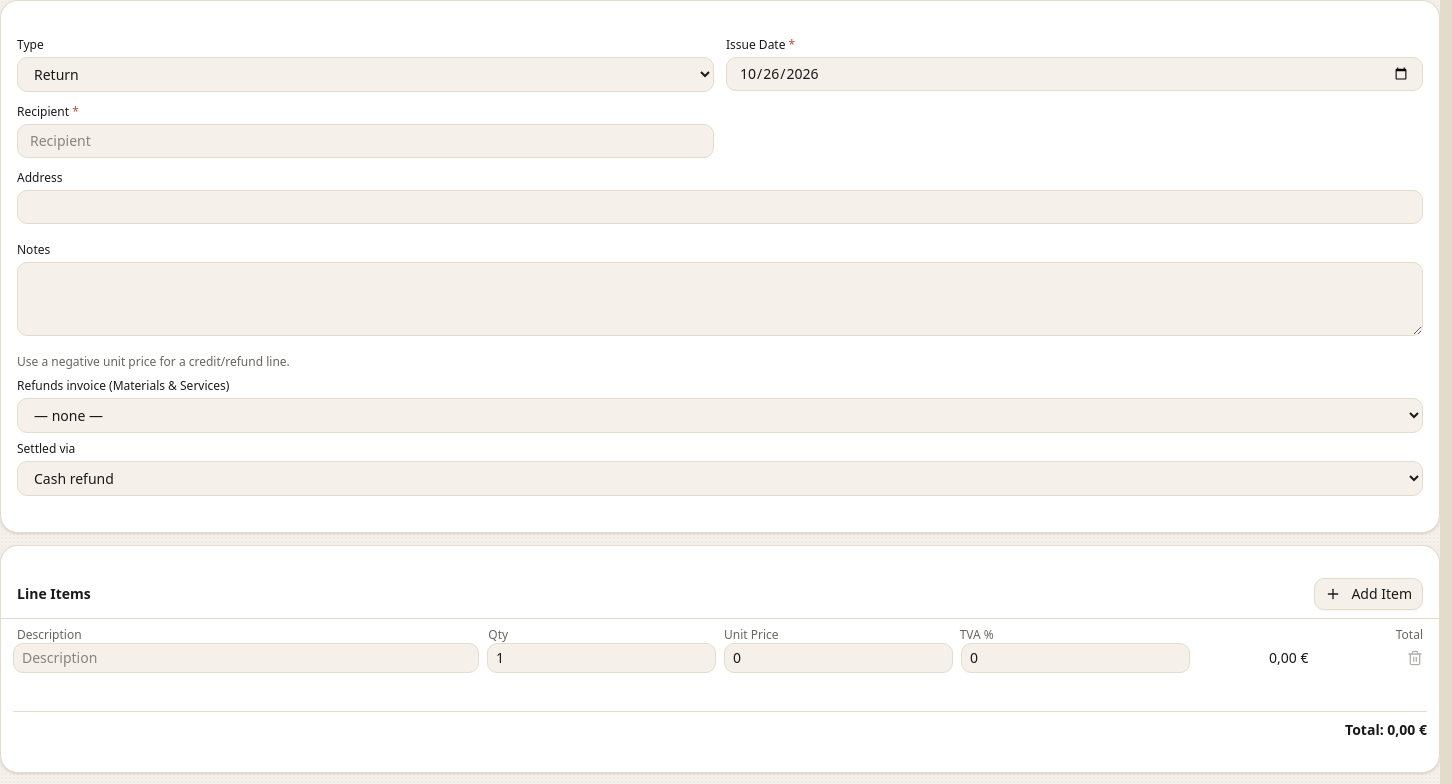
it: InvoiceForm — applied-to method-alignment hint › shows the generic hint when the target has no payment_method_label
Select "Avoir (supplier credit)" in the dropdown with test id "settled-via-select" at (720, 478), box [17,461,1423,496]
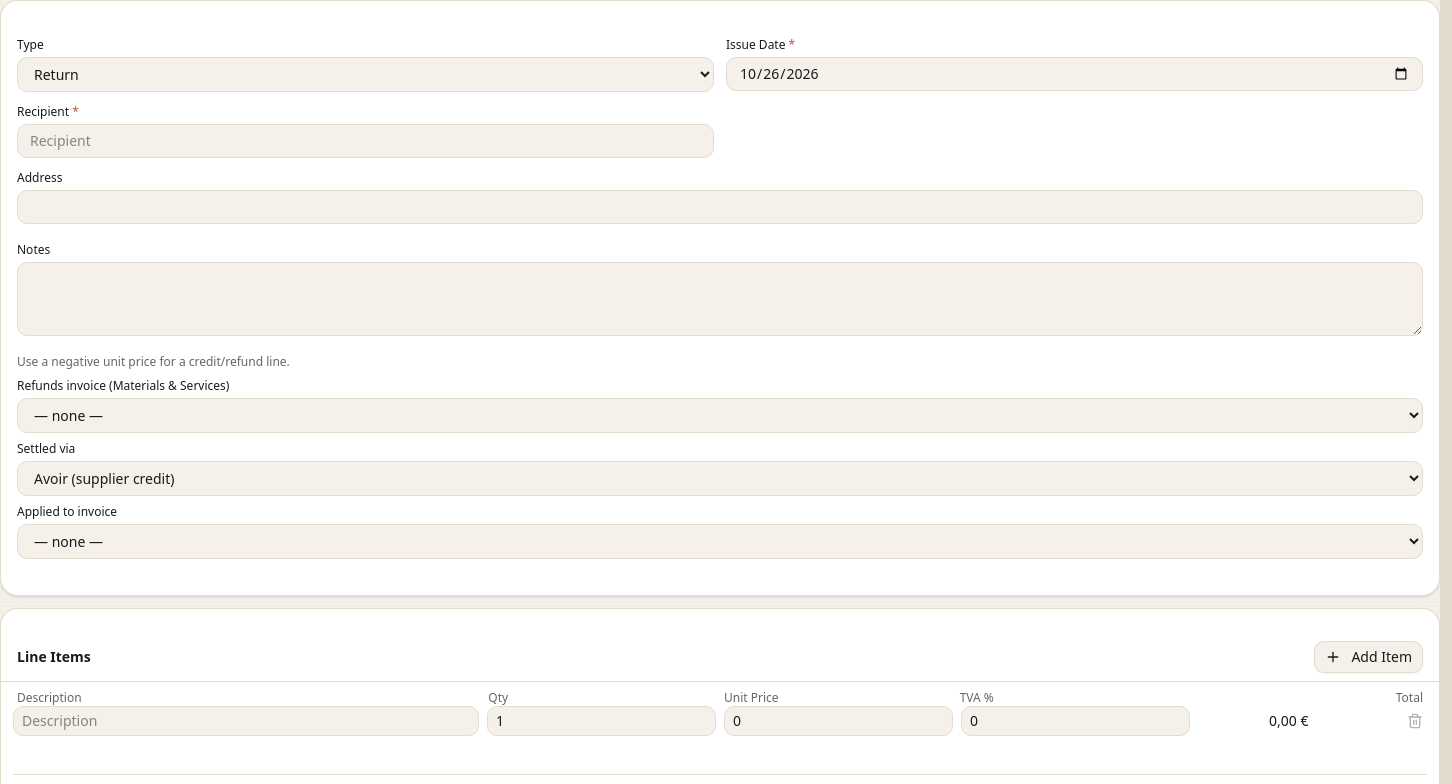
Select "INV-001 — 300,00 €" in the dropdown with test id "applied-to-invoice-select" at (720, 542), box [17,524,1423,559]
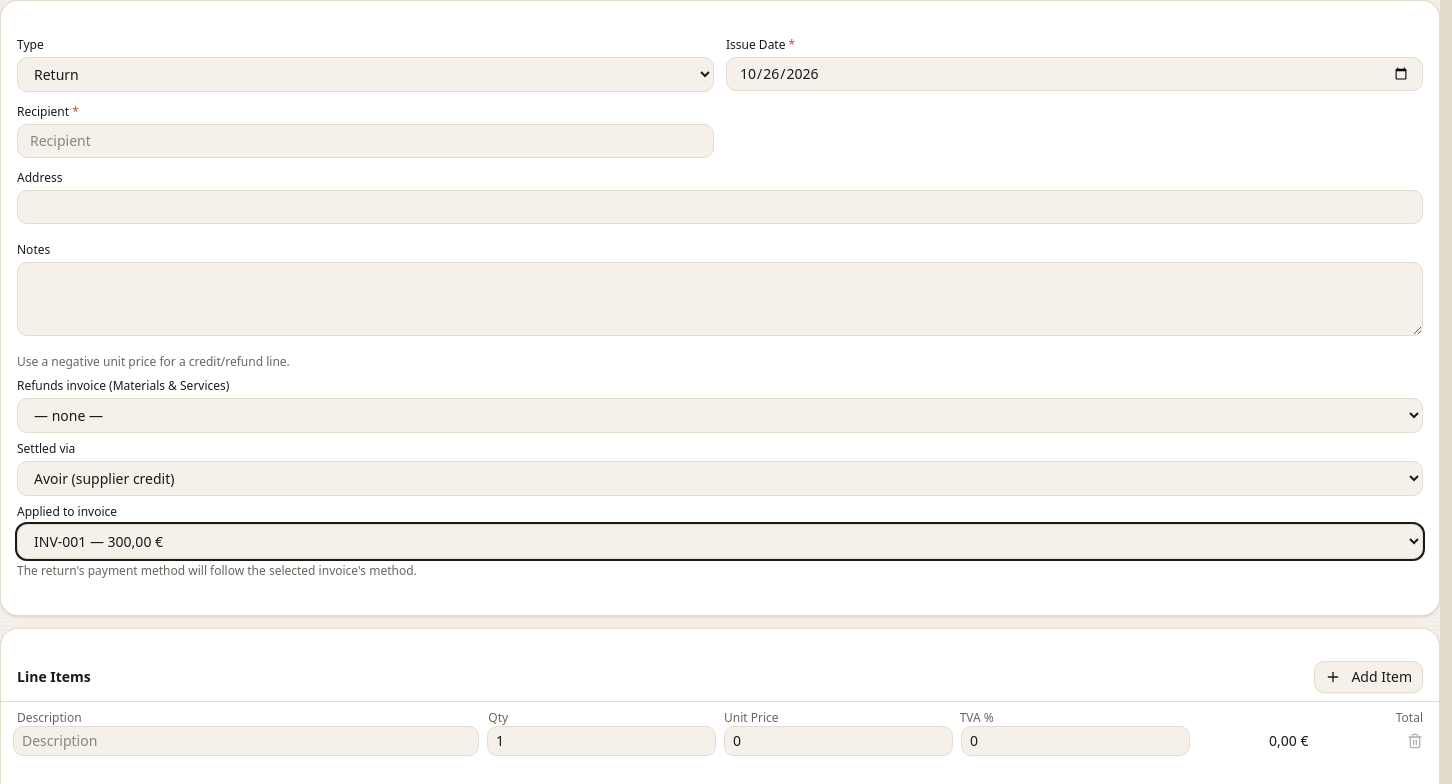
Now the text with test id "applied-to-method-hint" reads "The return's payment method will follow the selected invoice's method.", box [17,562,417,579]
